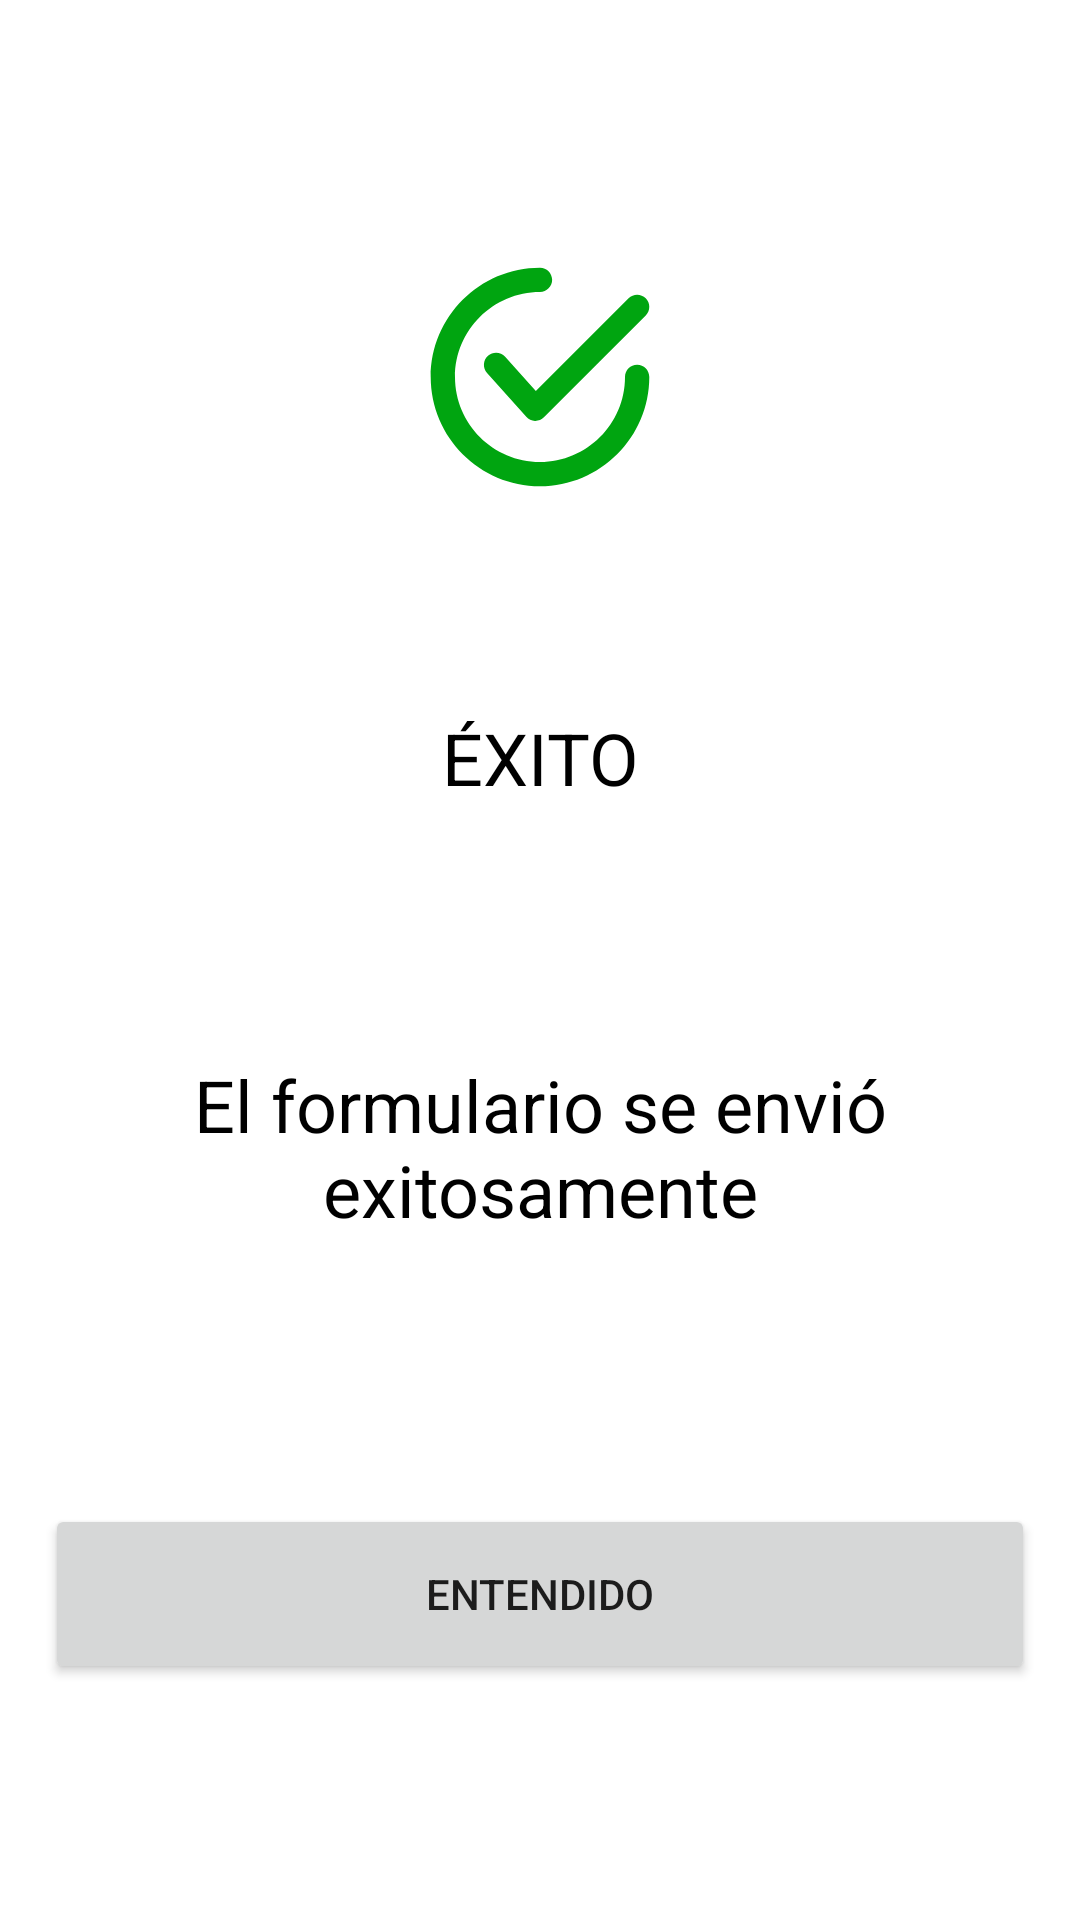

Screen size 1080px×1920px. Icon name, then its box in pixels as BBox(x1, y1, x2, y2):
check: BBox(430, 267, 650, 487)
